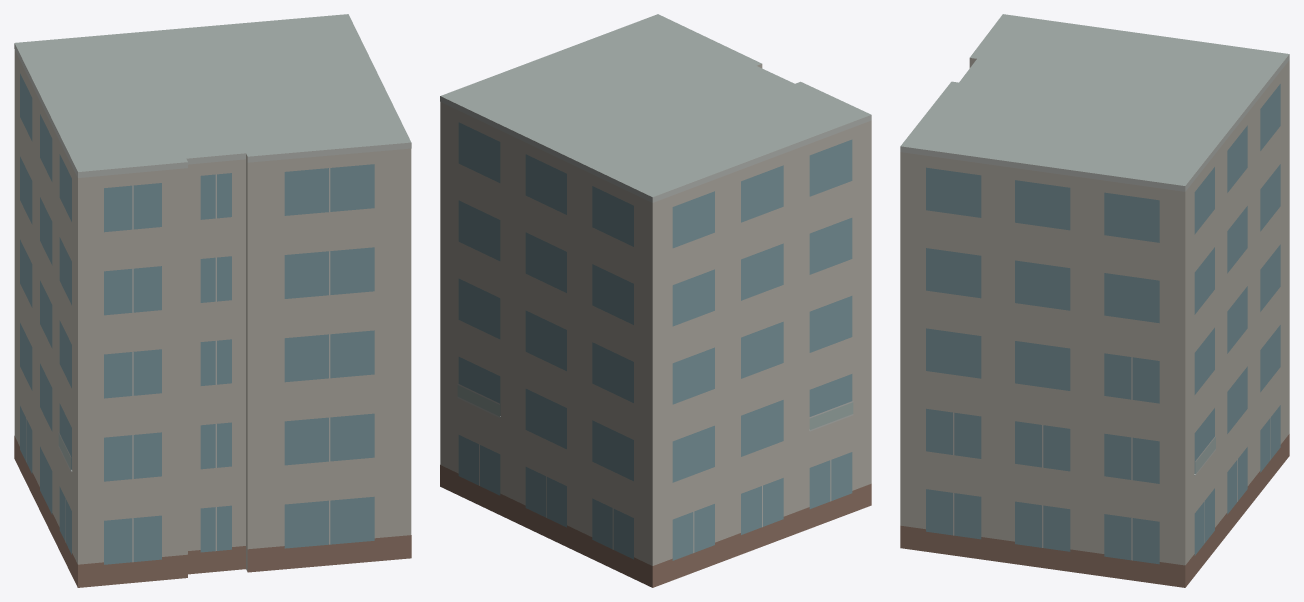
File: survey-upis-32528878.glb
3 renders of one model, left to right at view 1: azimuth 30°, elevation 25°; view 2: azimuth 150°, elevation 25°; view 3: azimuth 270°, elevation 25°, orthographic. The views are drawn at different scales.
Visible parts, largest first — view 1: survey-upis-32528878.tmp; view 2: survey-upis-32528878.tmp; view 3: survey-upis-32528878.tmp.
Part boxes in pixels (x1,y1,x2,y2): survey-upis-32528878.tmp: (14, 14, 411, 587); survey-upis-32528878.tmp: (440, 14, 871, 587); survey-upis-32528878.tmp: (900, 14, 1289, 587).
Bounding box in the file's own units: 15.53 × 16.9 × 14.85.
